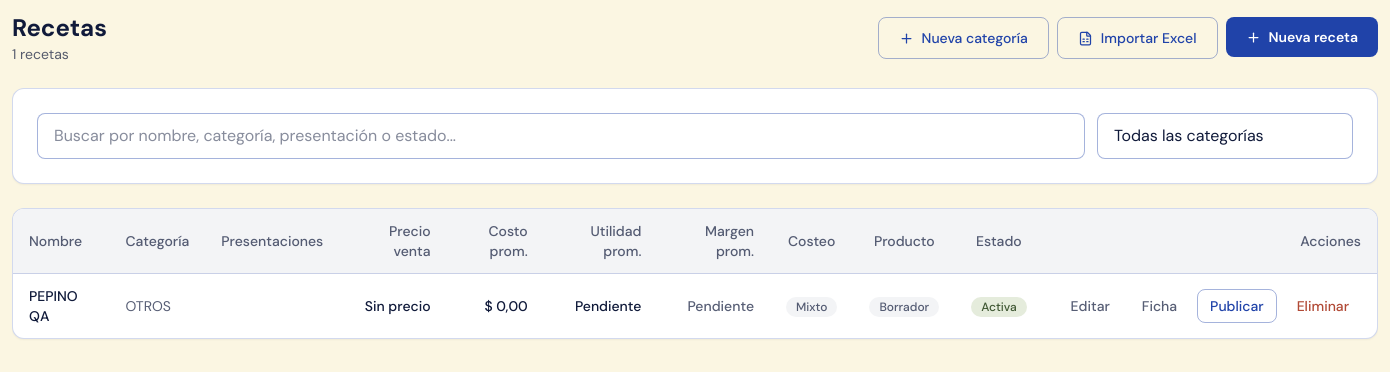
it: RecipesPage › removes a successfully deleted recipe from the visible list
Expected: the text "PEPINO QA" is shown, [29,287,78,325]
Click the button "Eliminar" at {"x": 1323, "y": 306}, box [1285,290,1361,322]
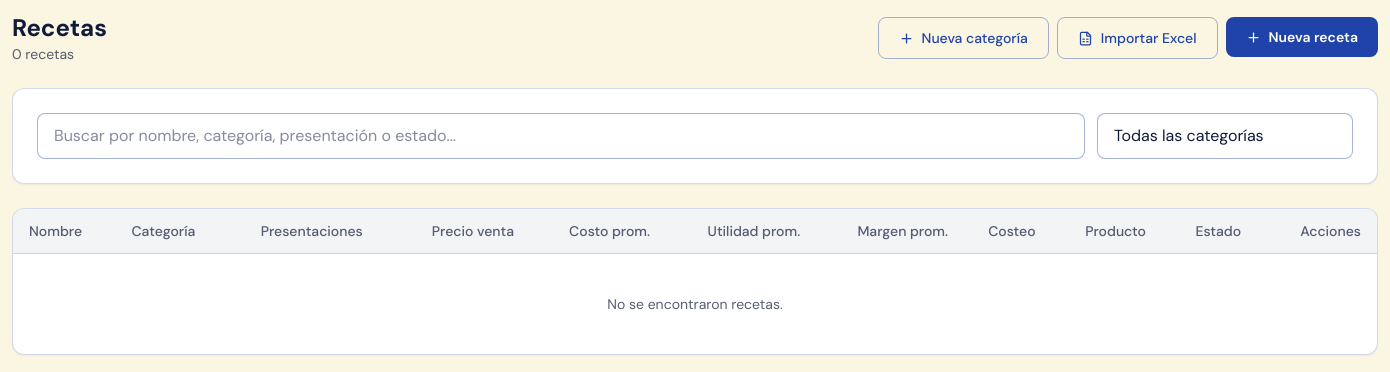
Result: the text "PEPINO QA" is gone
